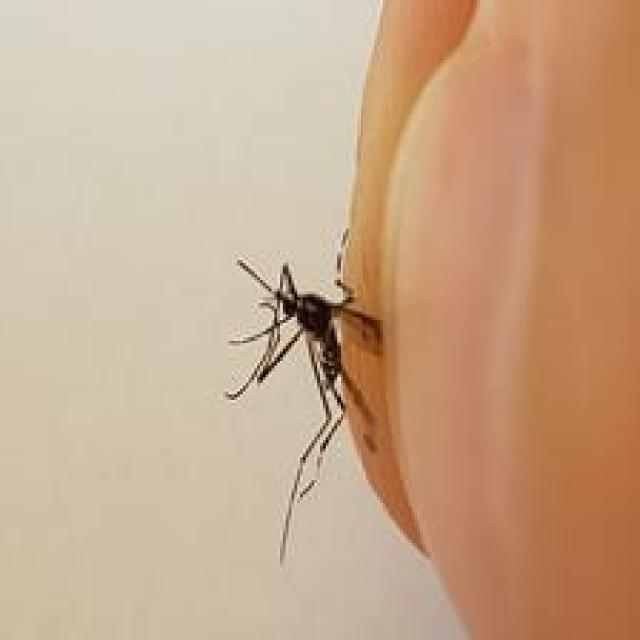Aedes albopictus: (223, 236, 386, 564)
